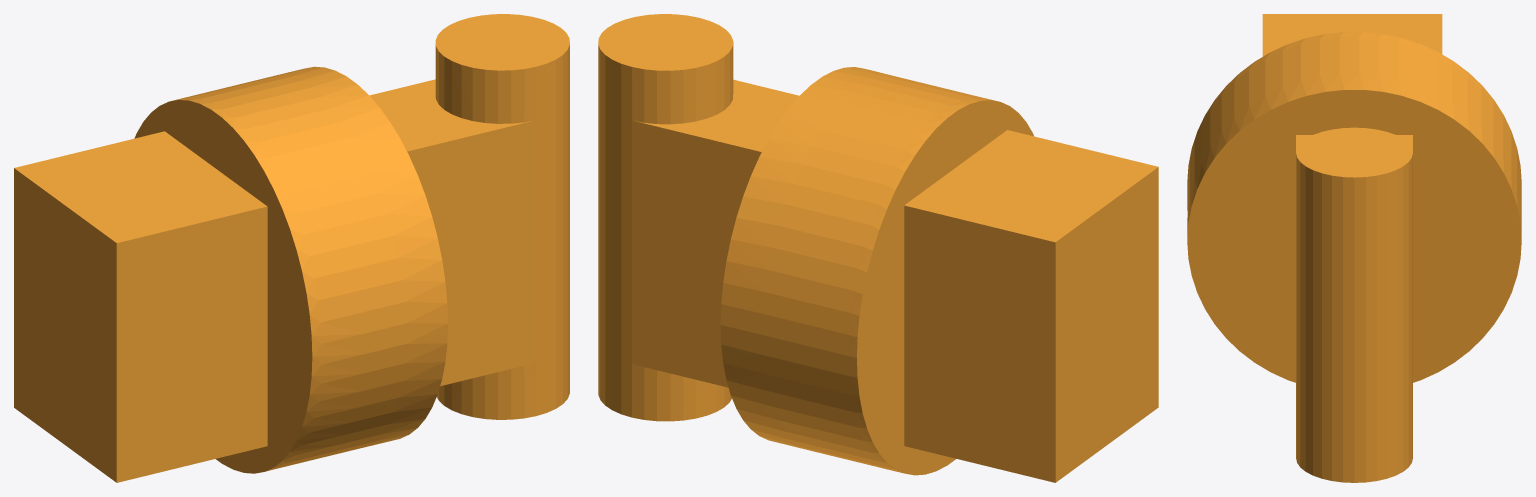
File: yaw_motor_link.dae
3 views of the same model, side by side, from view 1: azimuth 30°, elevation 25°; view 2: azimuth 150°, elevation 25°; view 3: azimuth 270°, elevation 25° (orthographic). The views are drawn at different scales.
Visible parts, largest first — view 1: Motor_Link_0012; view 2: Motor_Link_0012; view 3: Motor_Link_0012.
Boxes of the visible parts, box(x1,y1,x2,y2) form: Motor_Link_0012: box(14, 14, 569, 482); Motor_Link_0012: box(598, 14, 1158, 482); Motor_Link_0012: box(1187, 14, 1521, 482).
Bounding box in the file's own units: 0.12 × 0.08 × 0.0806.
